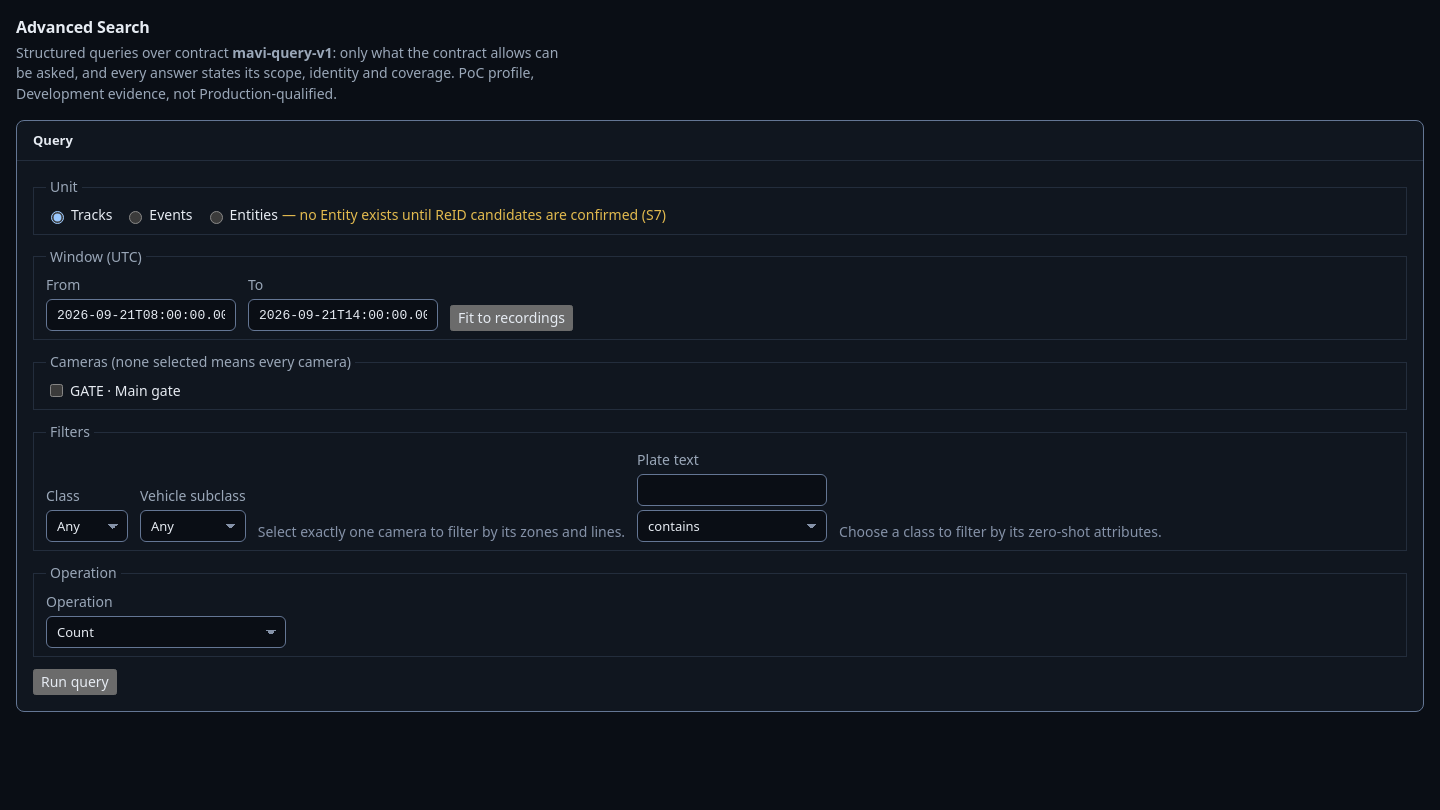
Test: Advanced Search › composes the demo question, shows it as resolved and draws the hourly buckets
Check: the heading "Advanced Search" is shown, box top-left (16, 16), bottom-right (150, 38)
Check: the field named "From (UTC)" holds "2026-09-21T08:00:00.000Z", box top-left (46, 299), bottom-right (236, 331)
Click the checkbox labelled "GATE · Main gate" at (56, 391), box top-left (50, 384), bottom-right (63, 397)
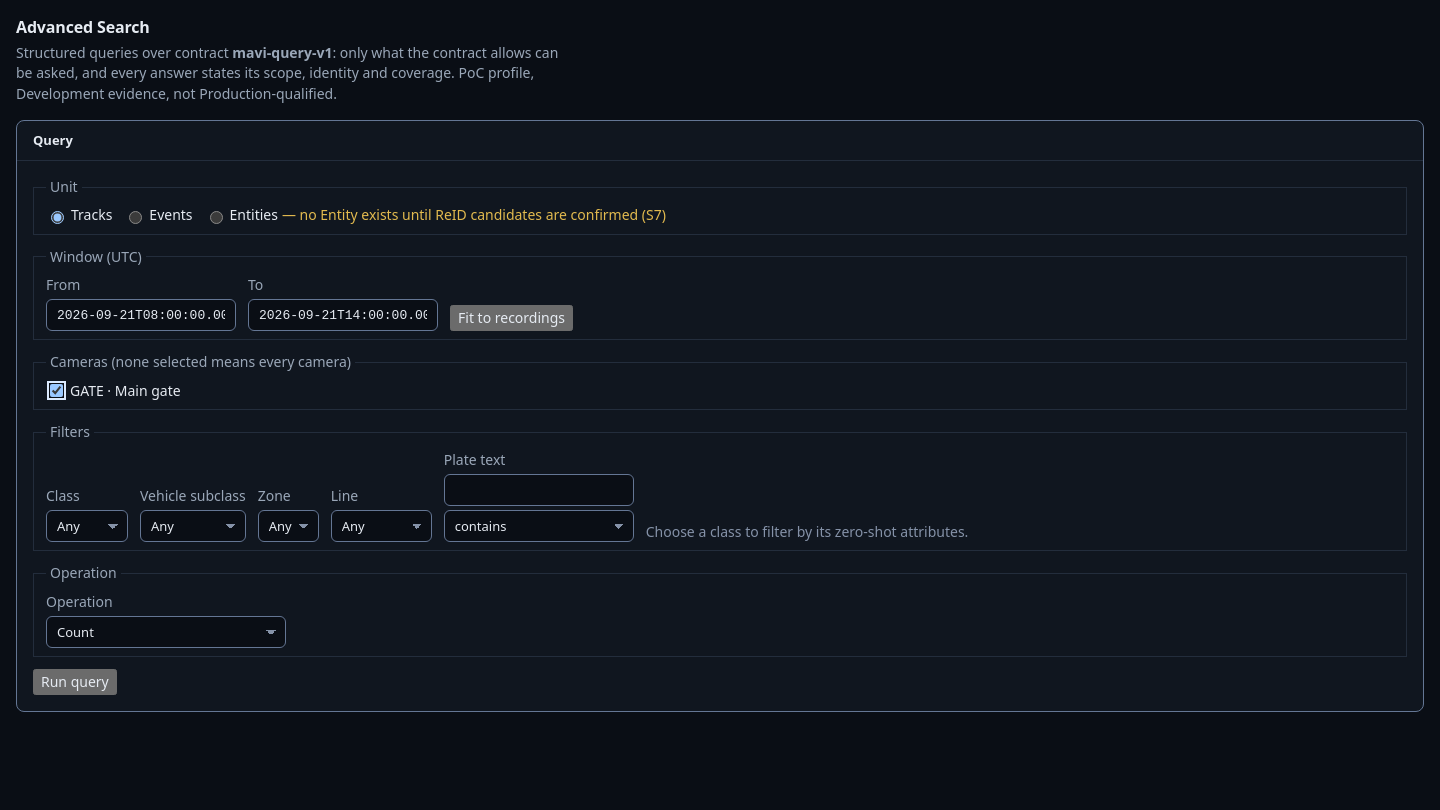
Select "Person" in the dropdown labelled "Class" at (87, 526), box top-left (46, 510), bottom-right (128, 542)
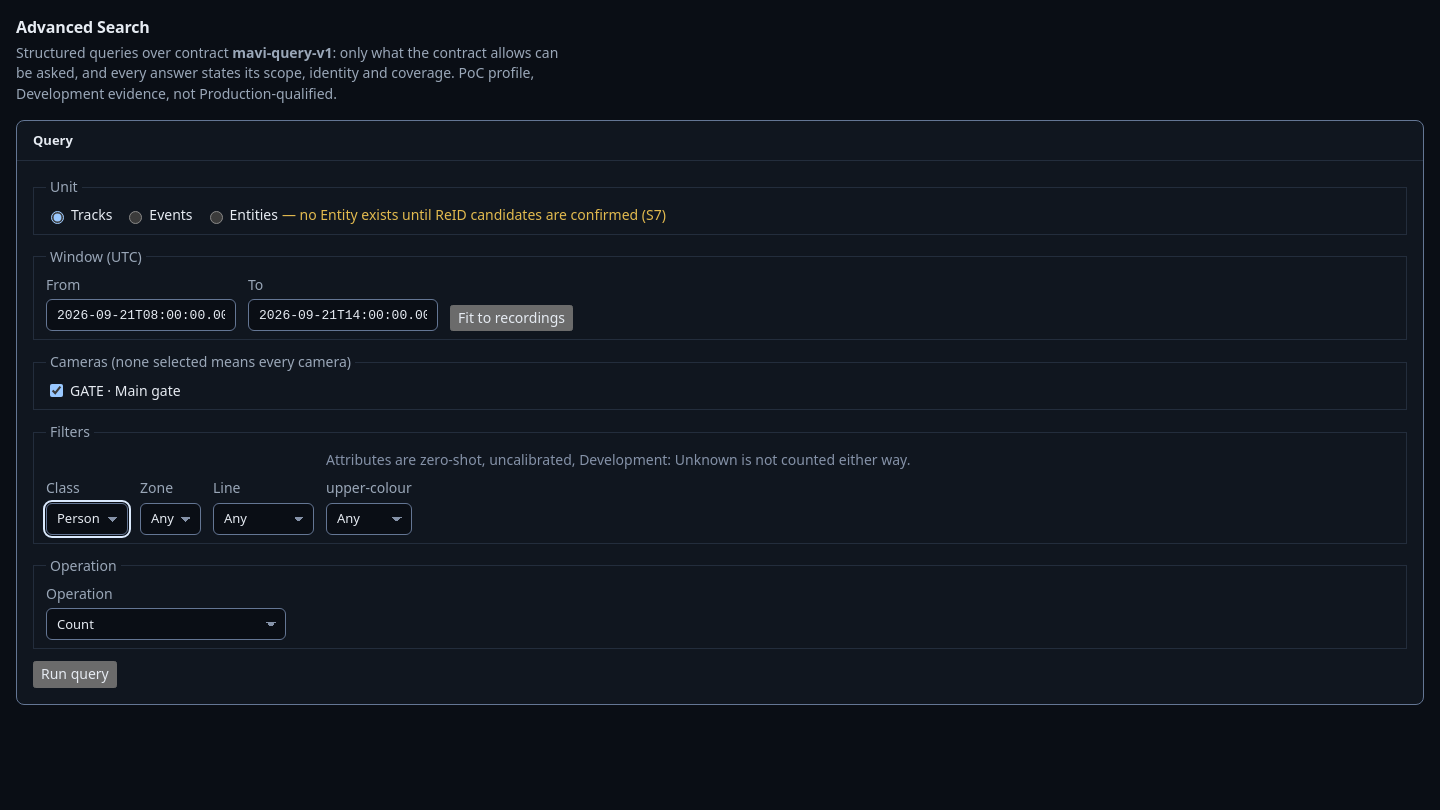
Select "Main Gate" in the dropdown labelled "Line" at (264, 519), box top-left (213, 503), bottom-right (314, 535)
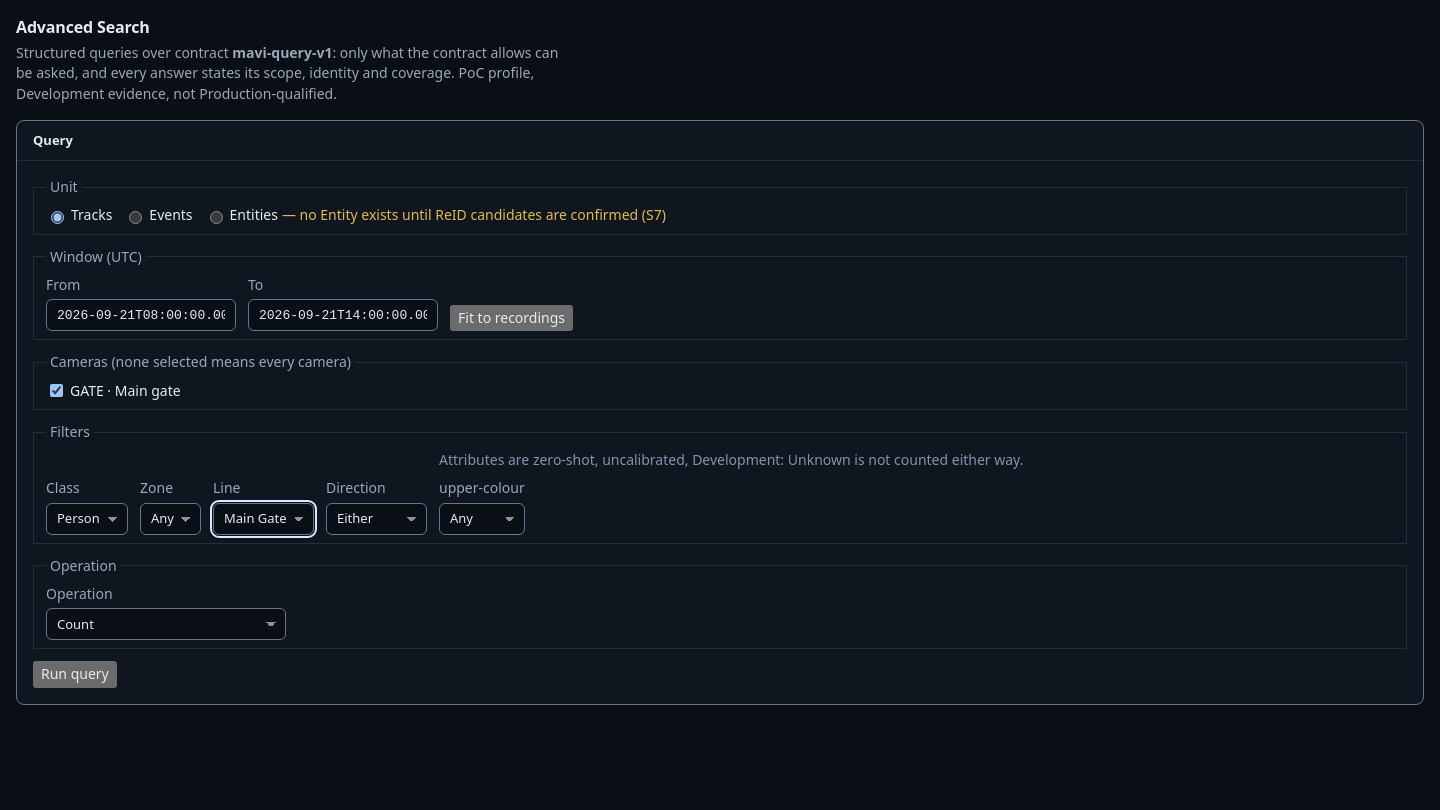
Select "Inbound" in the dropdown labelled "Direction" at (376, 519), box top-left (326, 503), bottom-right (427, 535)
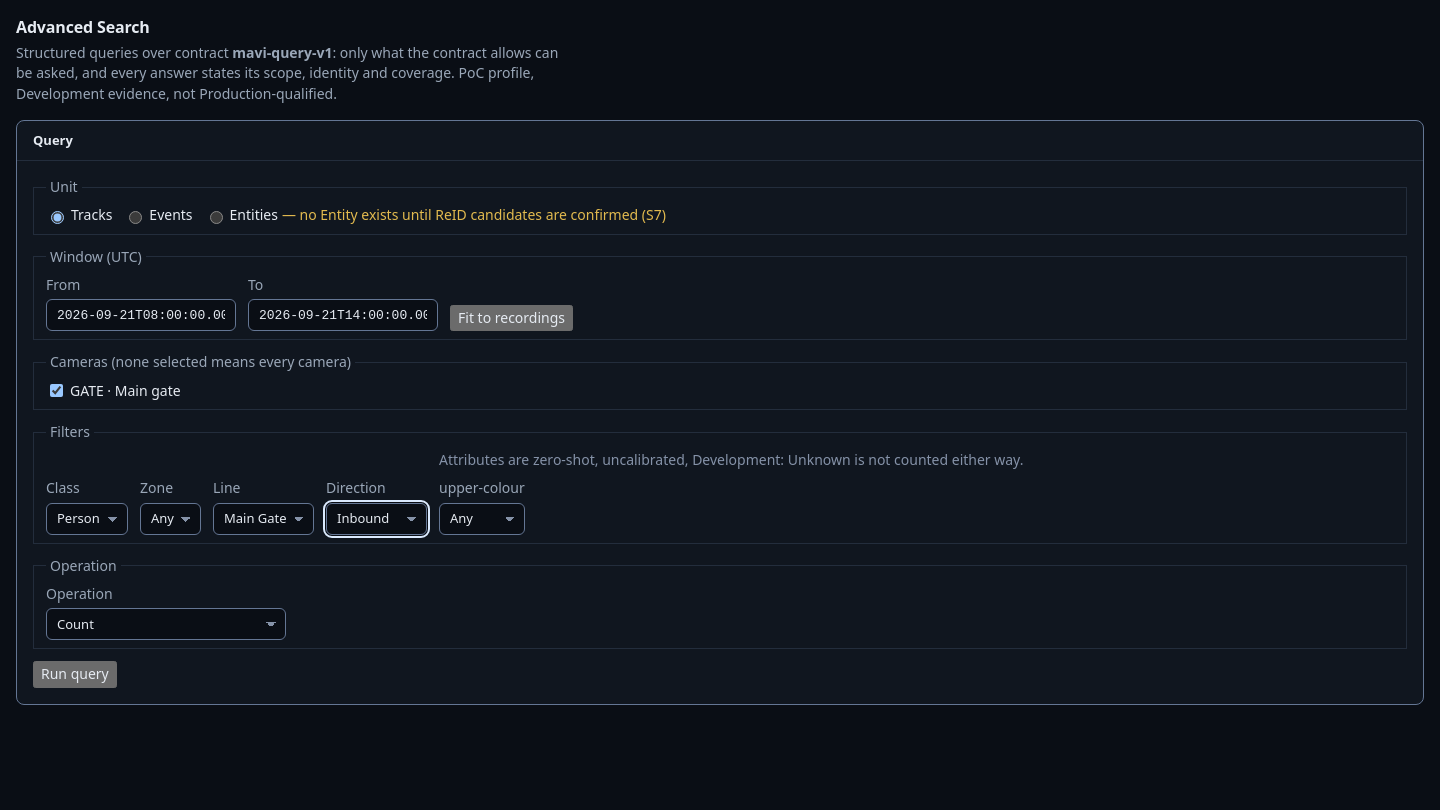
Select "Count per time bucket" in the dropdown labelled "Operation" at (166, 624), box top-left (46, 608), bottom-right (286, 640)
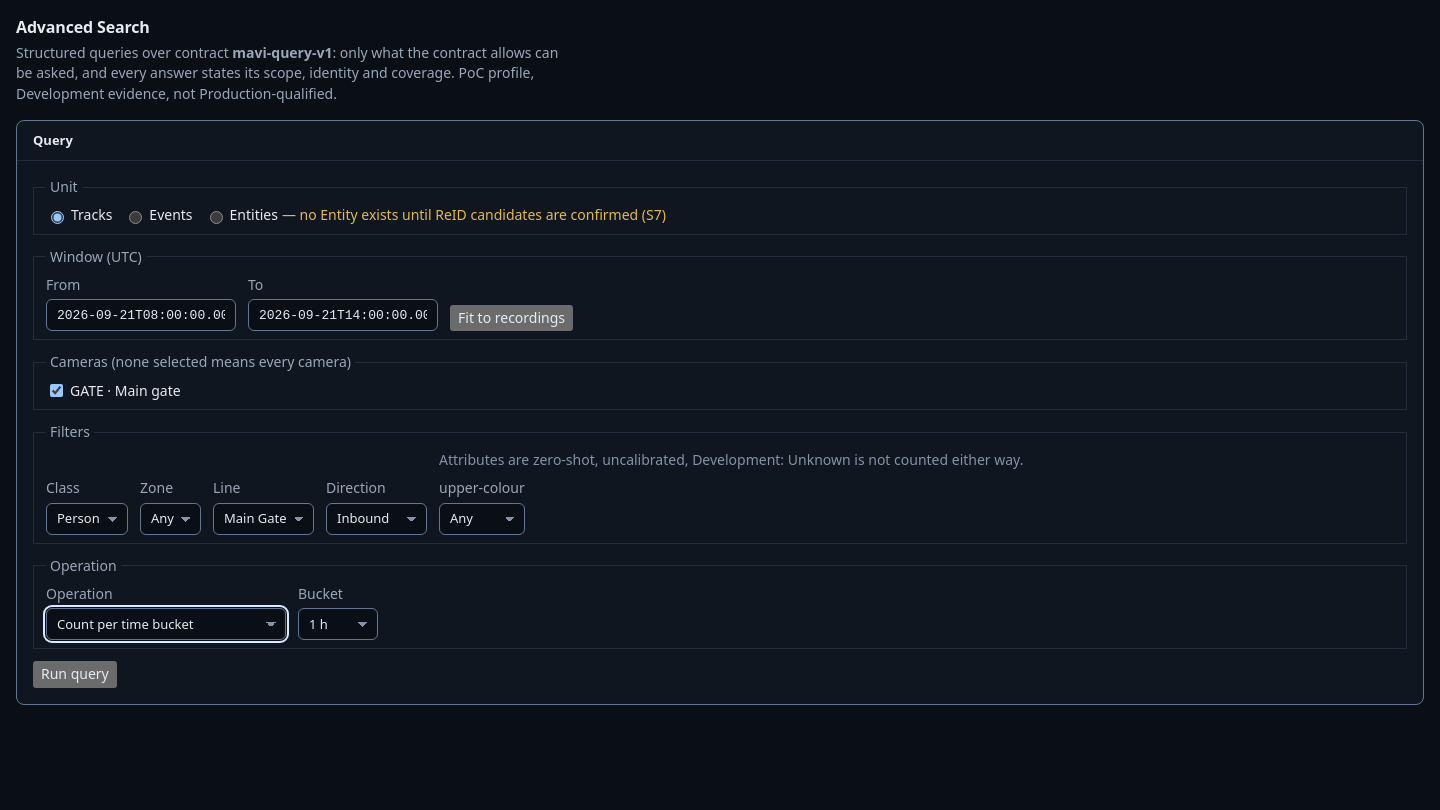
Click the button "Run query" at (75, 674), box top-left (33, 661), bottom-right (117, 688)
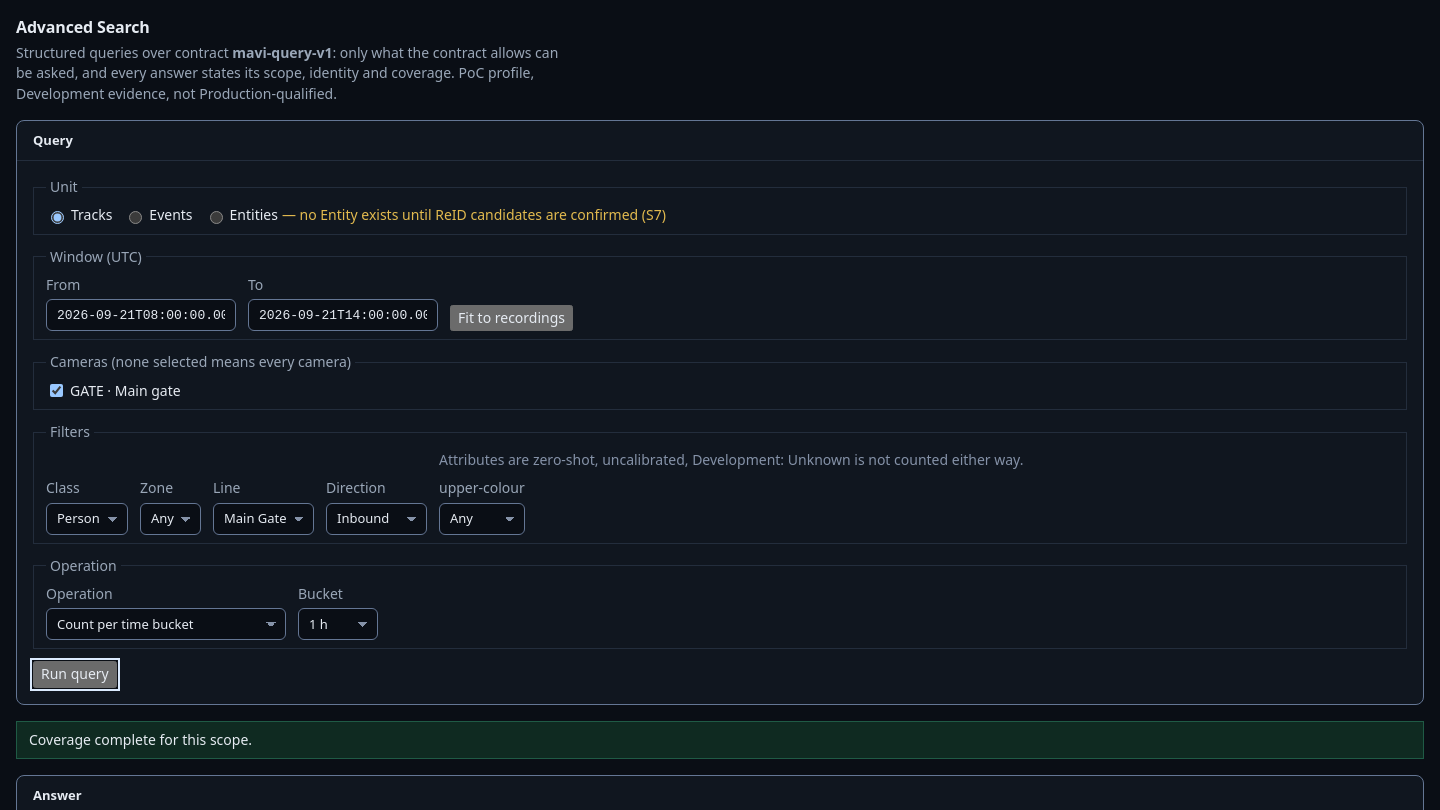
Check: the text "Coverage complete for this scope." is shown, box top-left (16, 721), bottom-right (1424, 759)
